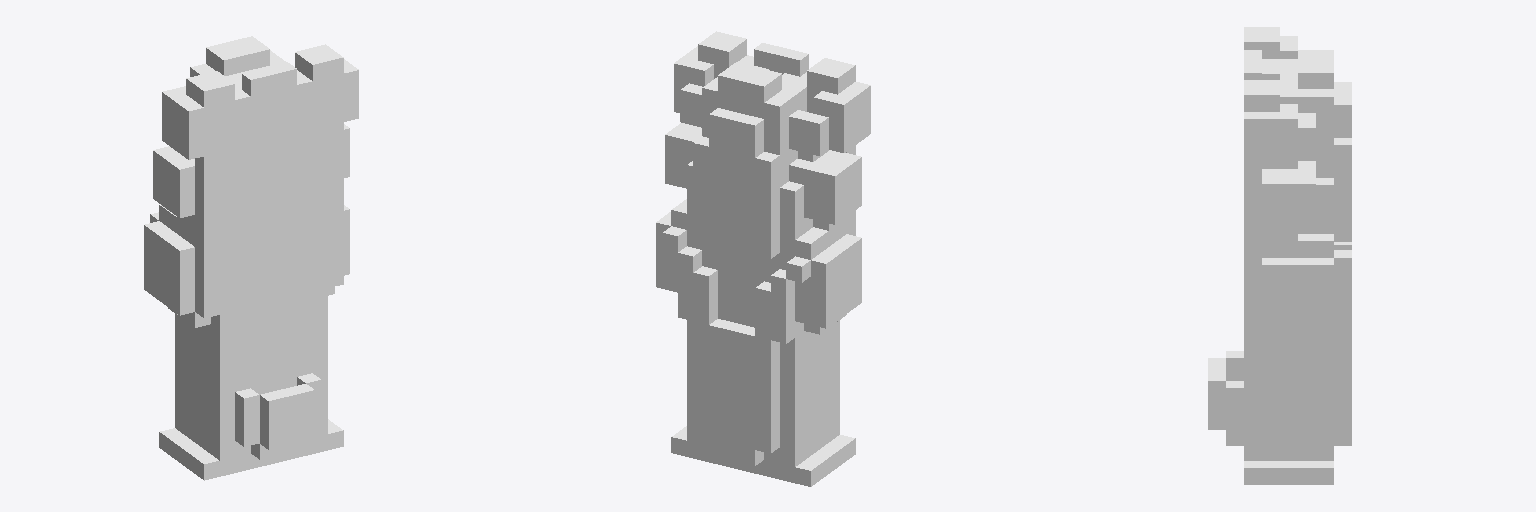
The model's file is Technar-1.obj.
3 renders of one model, left to right at view 1: azimuth 30°, elevation 25°; view 2: azimuth 150°, elevation 25°; view 3: azimuth 270°, elevation 25°, orthographic.
Parts seen in each view (by area): view 1: object 1; view 2: object 1; view 3: object 1.
Boxes of the visible parts, x1=… form: object 1: x1=144, y1=36, x2=358, y2=480; object 1: x1=656, y1=31, x2=870, y2=486; object 1: x1=1208, y1=27, x2=1351, y2=484.
Size of the model in its own units: 1.1 by 2.4 by 0.8.